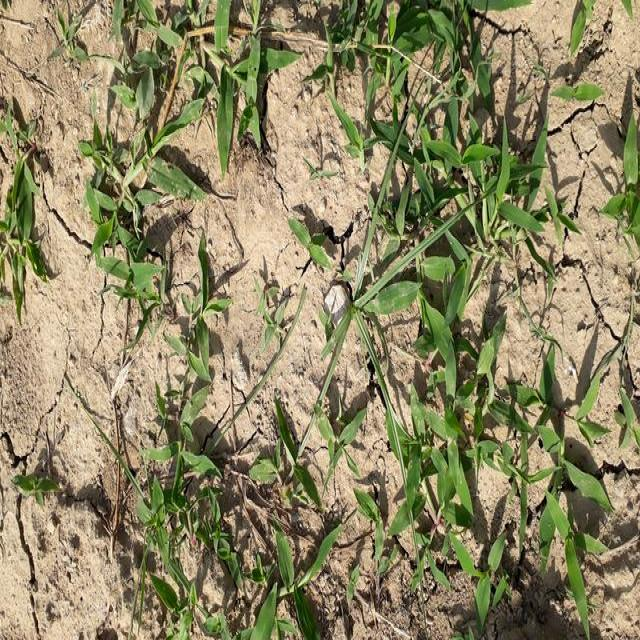weed: (370, 127, 530, 640), (152, 412, 378, 639), (125, 0, 529, 111), (542, 373, 626, 640), (80, 124, 203, 301), (162, 282, 240, 408), (8, 117, 50, 330), (549, 3, 605, 116), (288, 202, 343, 279), (617, 111, 640, 257)
